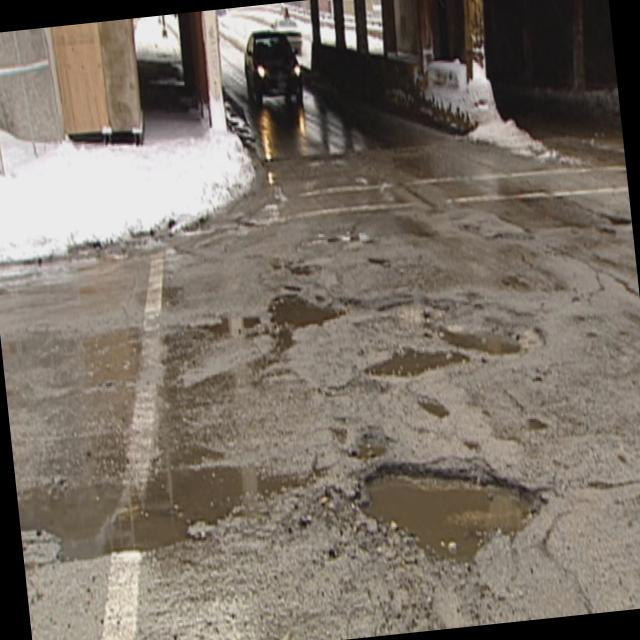Pothole: (0, 292, 319, 610), (345, 417, 580, 598), (225, 282, 382, 365), (438, 312, 554, 382), (370, 278, 454, 346), (366, 336, 466, 386), (398, 380, 476, 433)
